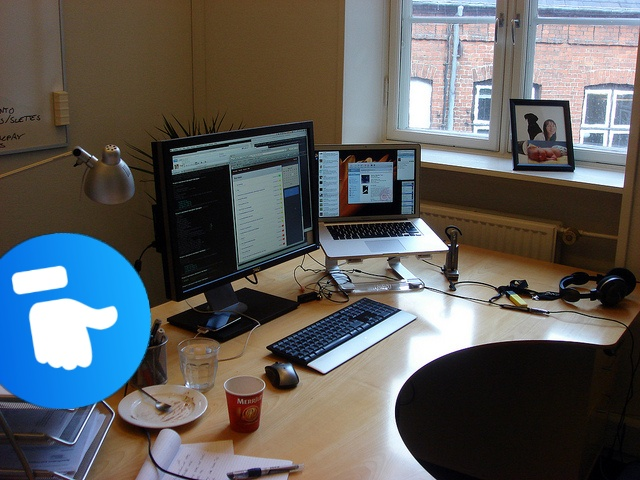like: (0, 233, 151, 409)
